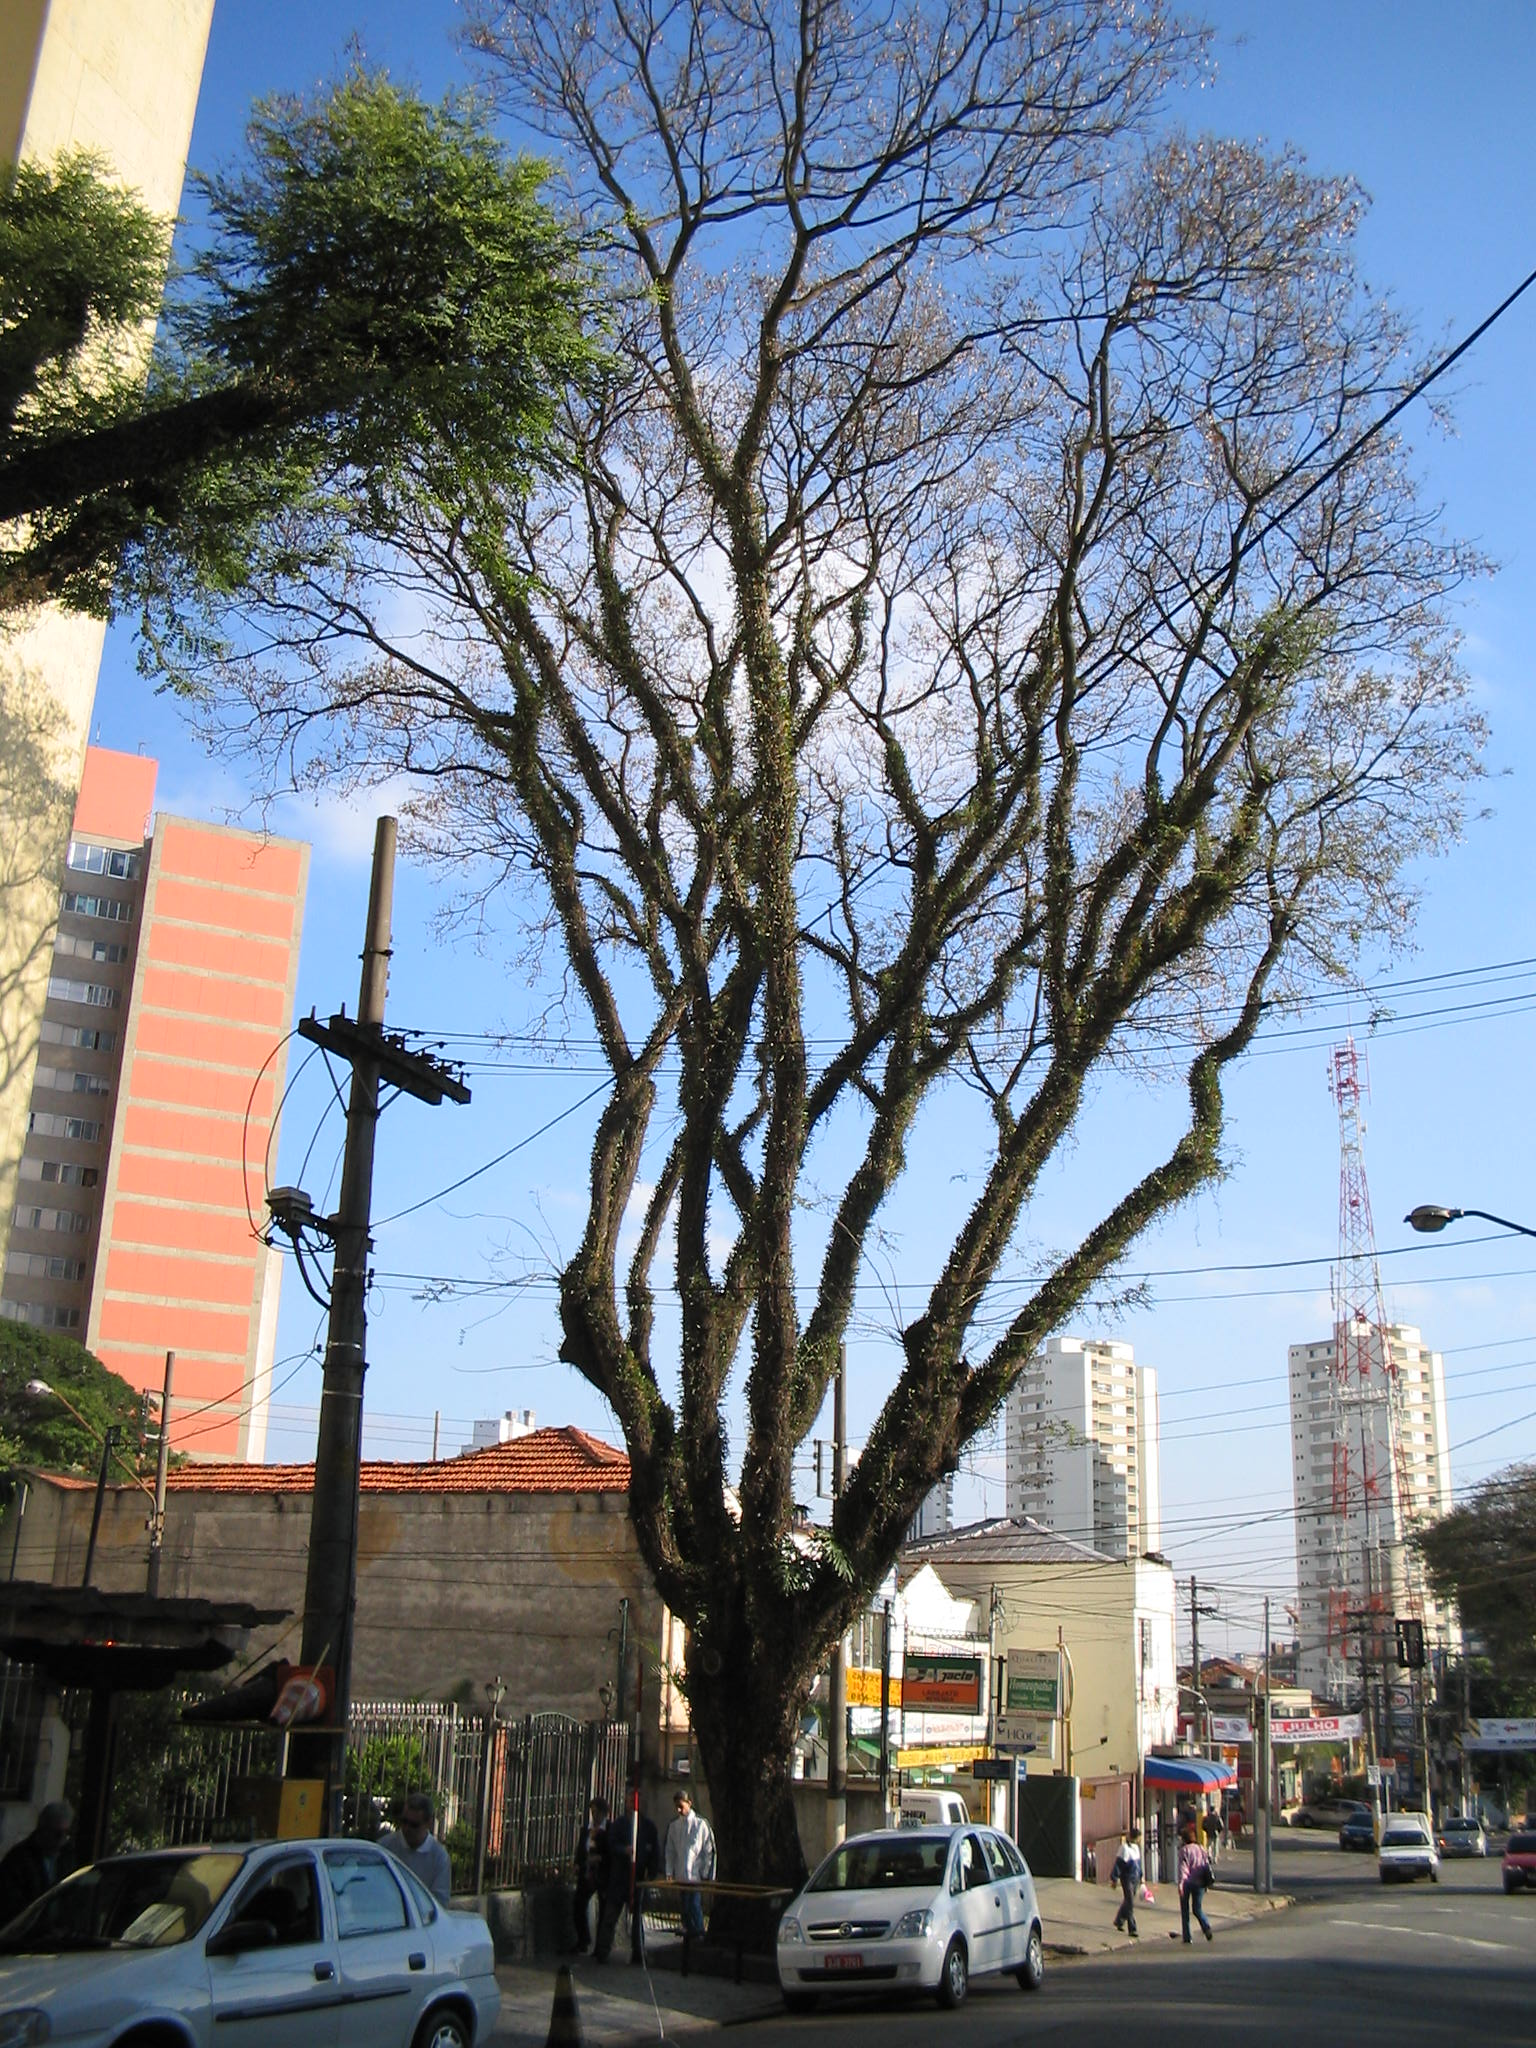stem: (665, 1653, 842, 1942)
stick: (618, 1656, 668, 1967)
tree: (203, 3, 1521, 1946)
